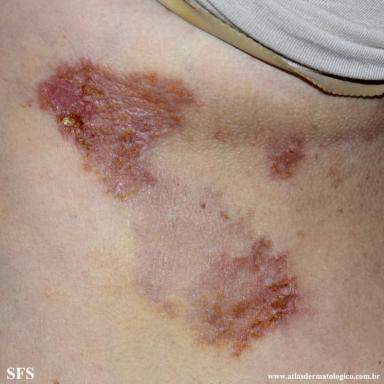Hailey-Hailey-Disease: (39, 59, 194, 200), (187, 237, 300, 356), (264, 134, 310, 181)
